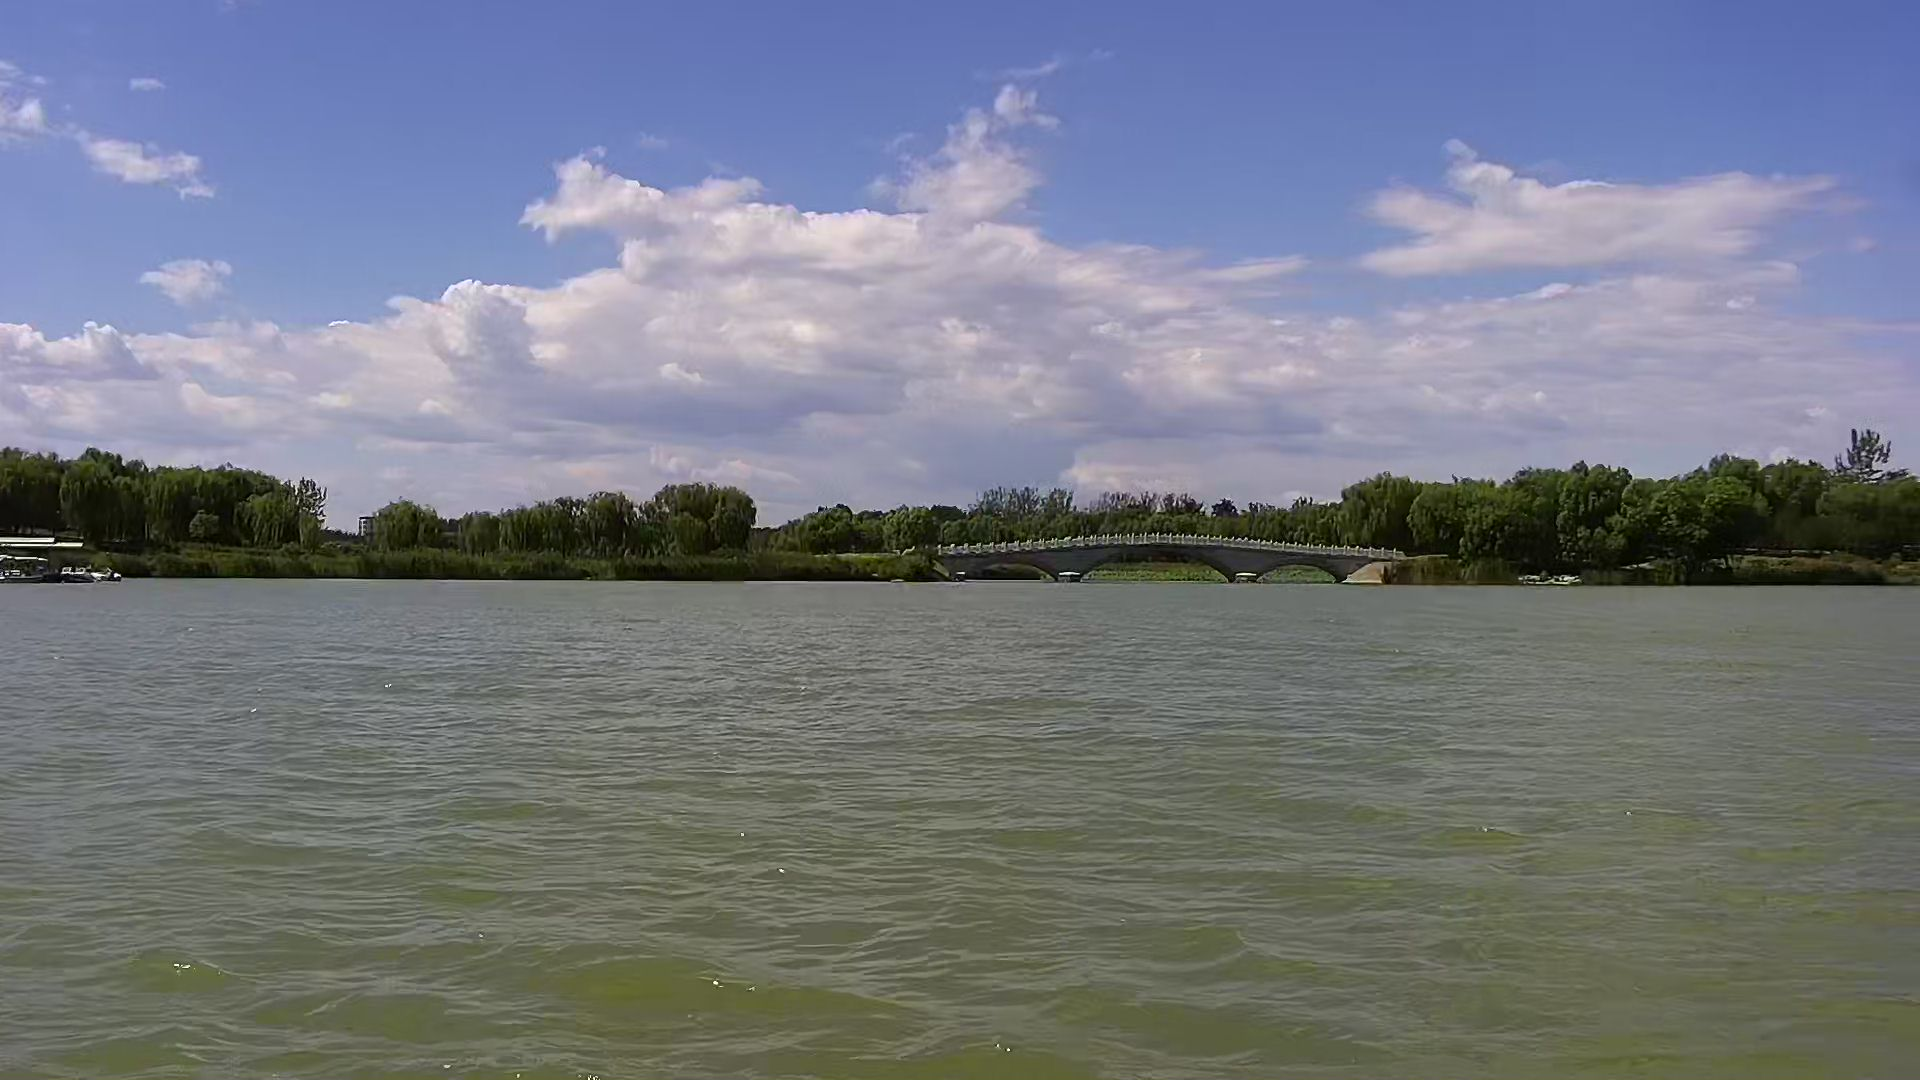bridge: (916, 527, 1394, 593)
harbor: (3, 529, 107, 599)
